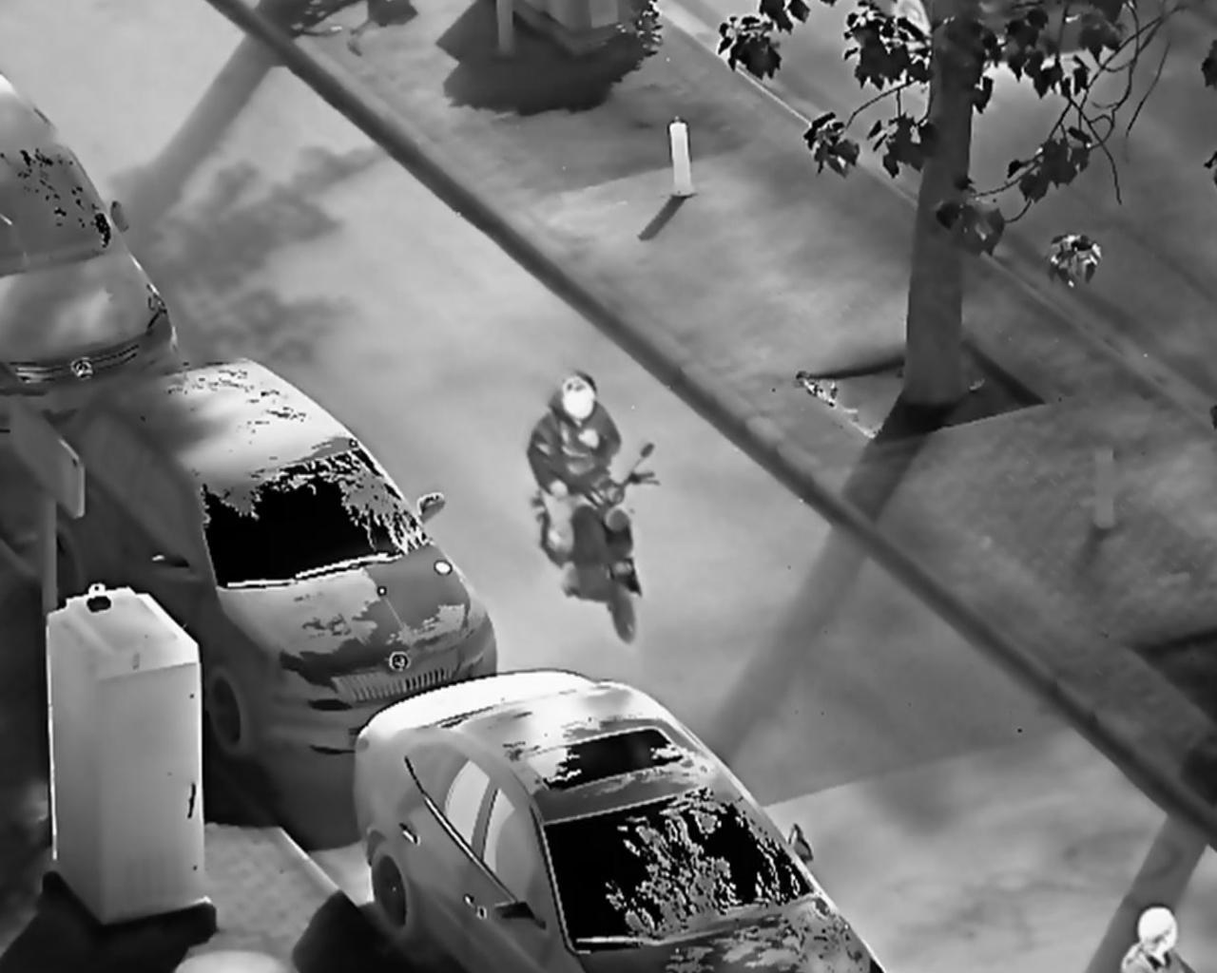person: (528, 369, 628, 574)
